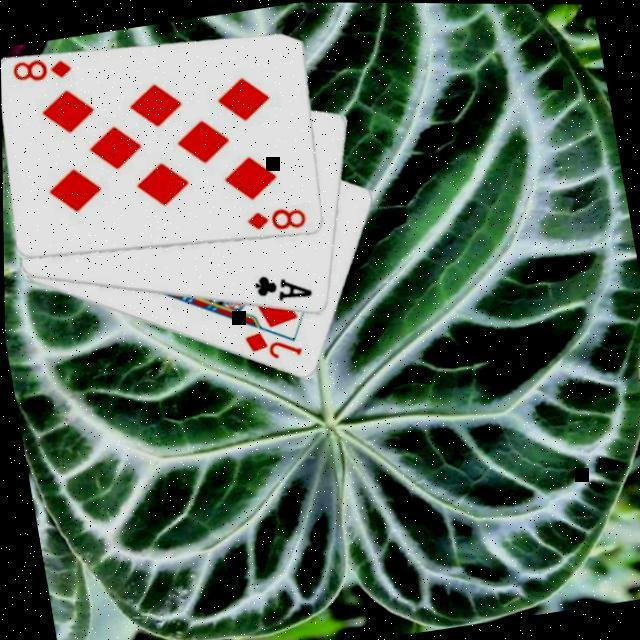8D: (240, 202, 308, 240), (6, 52, 74, 90)
AC: (247, 266, 314, 310)
JD: (237, 322, 304, 368)
